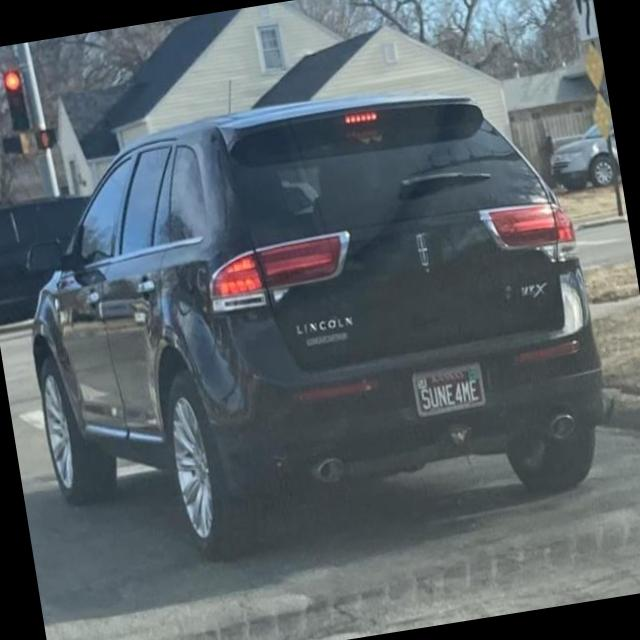LicensePlate: (411, 361, 489, 419)
